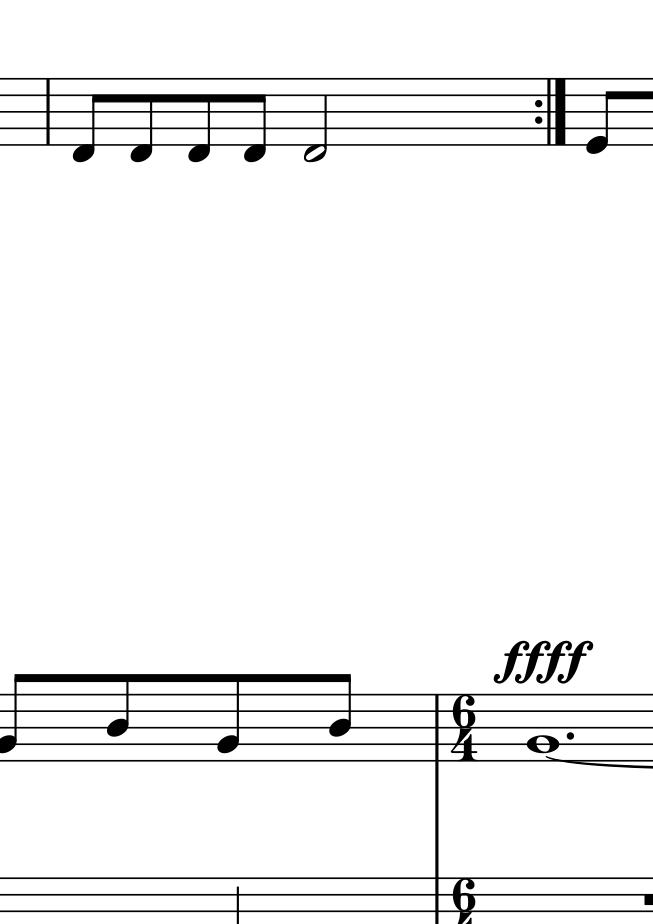1_2: (526, 693, 560, 761)
4: (449, 725, 478, 763)
4_-1: (302, 77, 328, 164)
6: (451, 691, 476, 729)
8_-1: (70, 77, 103, 164), (185, 77, 214, 165), (128, 77, 156, 165), (242, 77, 268, 165)
8_0: (584, 78, 616, 156)
8_2: (214, 673, 242, 761), (1, 673, 26, 762)
8_4: (106, 672, 131, 765), (328, 672, 353, 765)
RightRepeatSign: (535, 77, 569, 147)
Single_barline: (430, 694, 444, 762), (42, 81, 55, 145)
TimeSig: (447, 696, 483, 761)
dot: (564, 729, 576, 742)
ffff: (505, 638, 589, 685)
